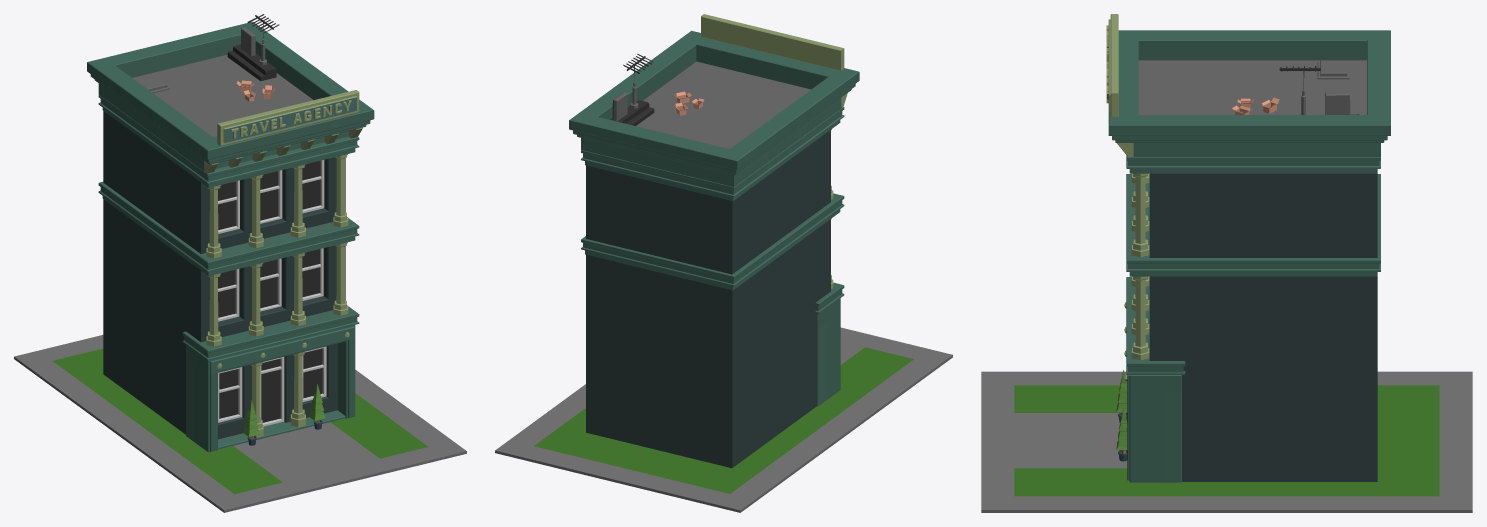
Rendered from travel-agency.glb.
3 views of the same model, side by side, from view 1: azimuth 30°, elevation 25°; view 2: azimuth 150°, elevation 25°; view 3: azimuth 270°, elevation 25° (orthographic). The views are drawn at different scales.
Parts seen in each view (by area): view 1: travel agency; view 2: travel agency; view 3: travel agency.
Part boxes in pixels (box(x1,y1,x2,y2)): travel agency: box(14, 14, 466, 512); travel agency: box(495, 14, 952, 512); travel agency: box(981, 14, 1472, 512).
Size of the model in its own units: 10 by 13.77 by 15.
1 material, 1 textured.
